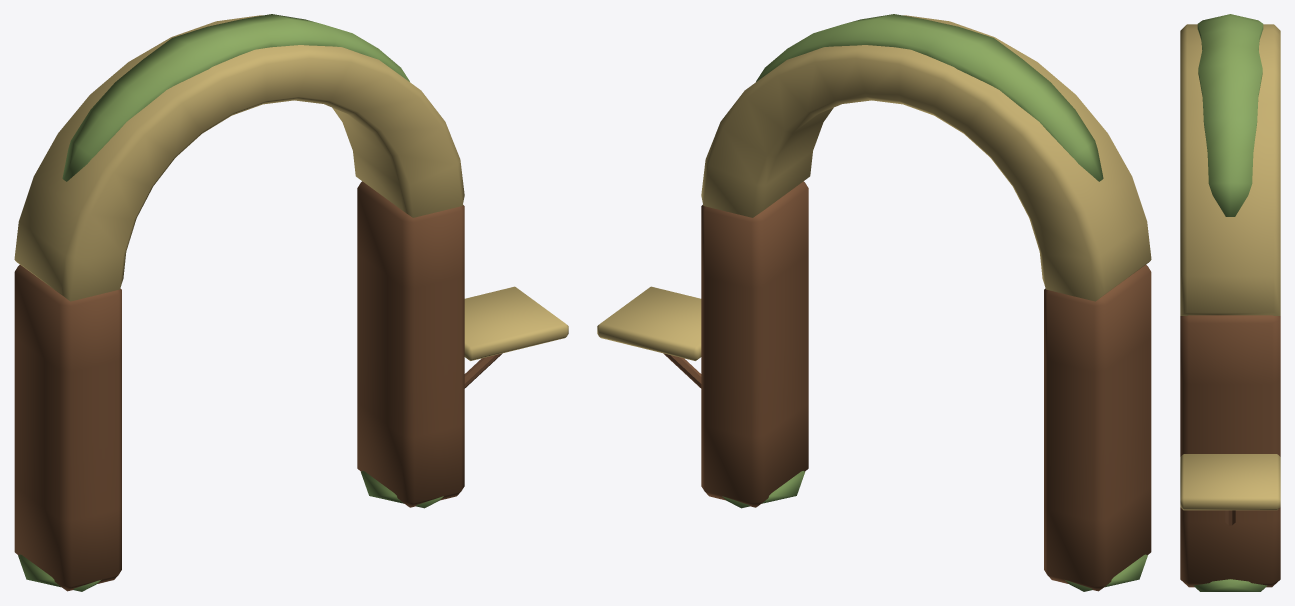
The model's file is Kit_Calm_GateArch_03.glb.
3 renders of one model, left to right at view 1: azimuth 30°, elevation 25°; view 2: azimuth 150°, elevation 25°; view 3: azimuth 270°, elevation 25°, orthographic. The views are drawn at different scales.
Parts seen in each view (by area): view 1: EX_GateArch03_Wood, EX_GateArch03_Leaves; view 2: EX_GateArch03_Wood, EX_GateArch03_Leaves; view 3: EX_GateArch03_Wood, EX_GateArch03_Leaves.
Boxes of the visible parts, bbox=[...] form: EX_GateArch03_Wood: bbox=[14, 15, 568, 591]; EX_GateArch03_Leaves: bbox=[18, 14, 443, 591]; EX_GateArch03_Wood: bbox=[597, 15, 1151, 591]; EX_GateArch03_Leaves: bbox=[722, 14, 1147, 591]; EX_GateArch03_Wood: bbox=[1180, 24, 1280, 587]; EX_GateArch03_Leaves: bbox=[1193, 14, 1267, 591].
Size of what is drawn, in the model's own units: 3.32 by 3.07 by 0.6.
